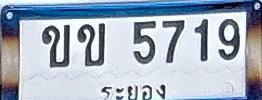1: (194, 19, 208, 62)
5: (133, 20, 155, 64)
7: (162, 19, 184, 63)
9: (218, 19, 240, 60)
A02: (41, 24, 69, 67), (77, 23, 105, 66)
RYG: (99, 81, 168, 100)
